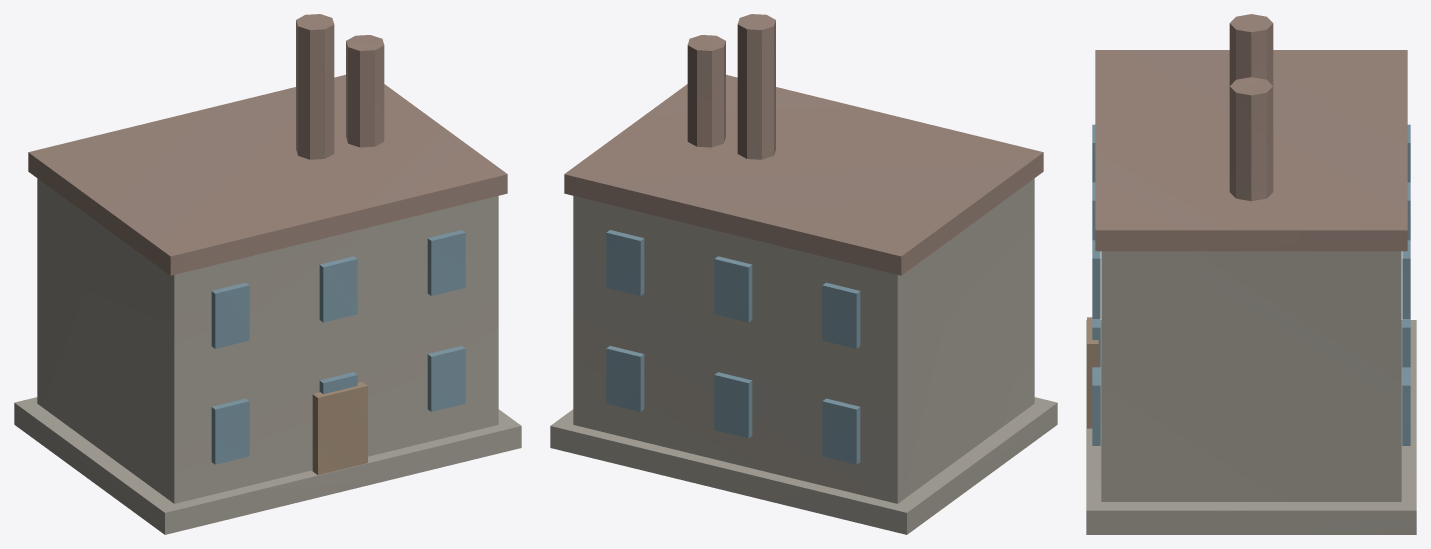
The model's file is factory-01.glb.
3 renders of one model, left to right at view 1: azimuth 30°, elevation 25°; view 2: azimuth 150°, elevation 25°; view 3: azimuth 270°, elevation 25°, orthographic. The views are drawn at different scales.
Visible parts, largest first — view 1: world; view 2: world; view 3: world.
Boxes of the visible parts, x1,y1,x2,y2 form: world: (14,14,521,534); world: (550,14,1057,534); world: (1086,14,1416,534).
Bounding box in the file's own units: 1.35 × 1.46 × 0.99.
